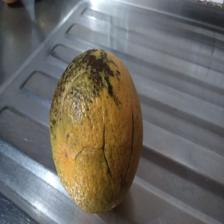Mango Semirotten: (48, 50, 144, 212)
